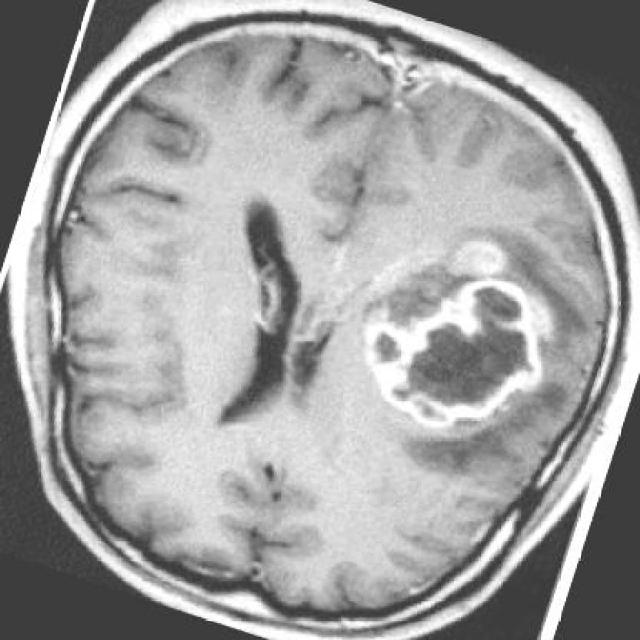Brain-Tumor: (354, 242, 564, 449)
